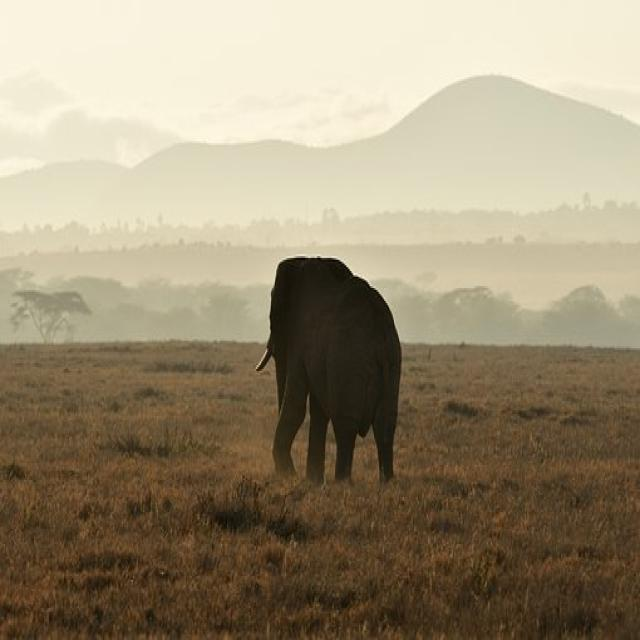Elephant: (250, 231, 418, 521)
